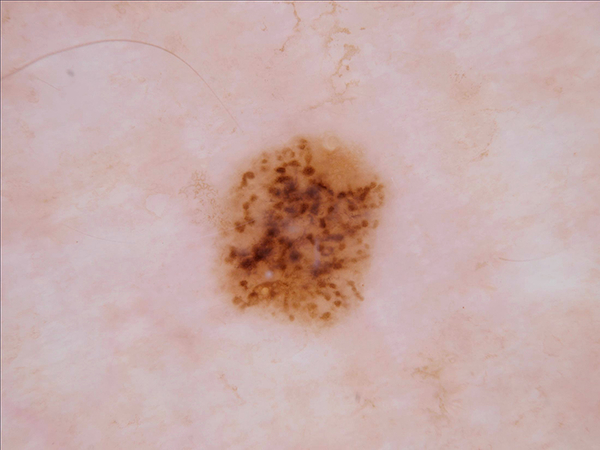Detected Lesion: (206, 133, 399, 333)
